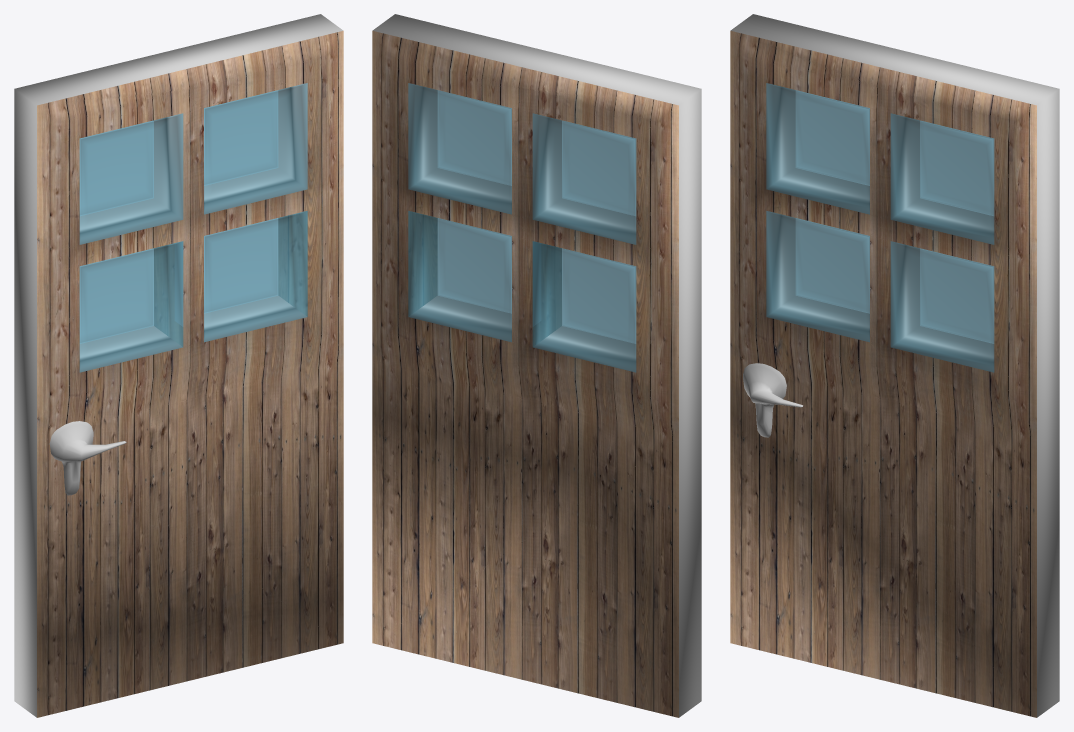
Rendered from CabinDoor.fbx.
3 views of the same model, side by side, from view 1: azimuth 30°, elevation 25°; view 2: azimuth 150°, elevation 25°; view 3: azimuth 330°, elevation 25° (orthographic).
Parts seen in each view (by area): view 1: CabinDoor; view 2: CabinDoor; view 3: CabinDoor.
Boxes of the visible parts, x1,y1,x2,y2 form: CabinDoor: (14,14,343,717); CabinDoor: (372,14,701,717); CabinDoor: (730,14,1059,717).
Size of the model in its own units: 1.21 by 2.31 by 0.2594.
